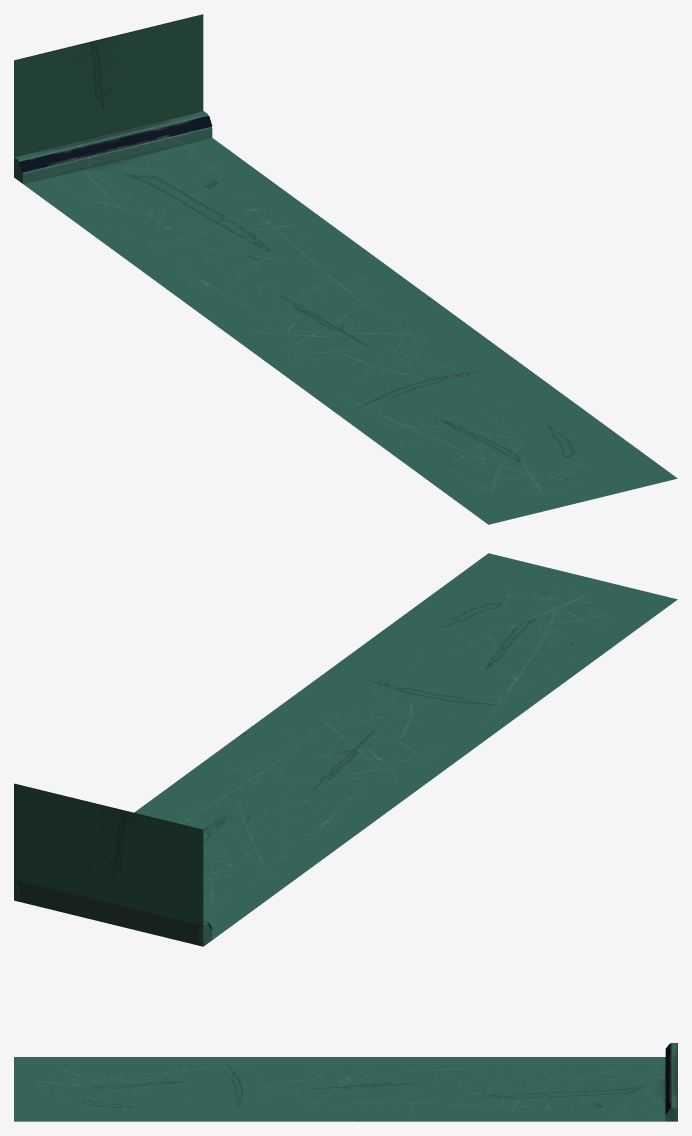
Rendered from 3 yuka.fbx.
3 renders of one model, top to bottom at view 1: azimuth 30°, elevation 25°; view 2: azimuth 150°, elevation 25°; view 3: azimuth 270°, elevation 25°, orthographic. The views are drawn at different scales.
Visible parts, largest first — view 1: polySurface239, polySurface242, polySurface237, polySurface238; view 2: polySurface239, polySurface242; view 3: polySurface239, polySurface237, polySurface238.
Part boxes in pixels (<box>): polySurface239: <box>23,138,677,524</box>; polySurface242: <box>14,14,203,156</box>; polySurface237: <box>14,111,212,183</box>; polySurface238: <box>19,115,212,172</box>; polySurface239: <box>134,553,677,939</box>; polySurface242: <box>14,783,203,946</box>; polySurface239: <box>14,1057,665,1121</box>; polySurface237: <box>665,1043,677,1121</box>; polySurface238: <box>665,1043,670,1113</box>.
Size of the model in its own units: 29.58 by 17.47 by 128.
1 material, 1 textured.
